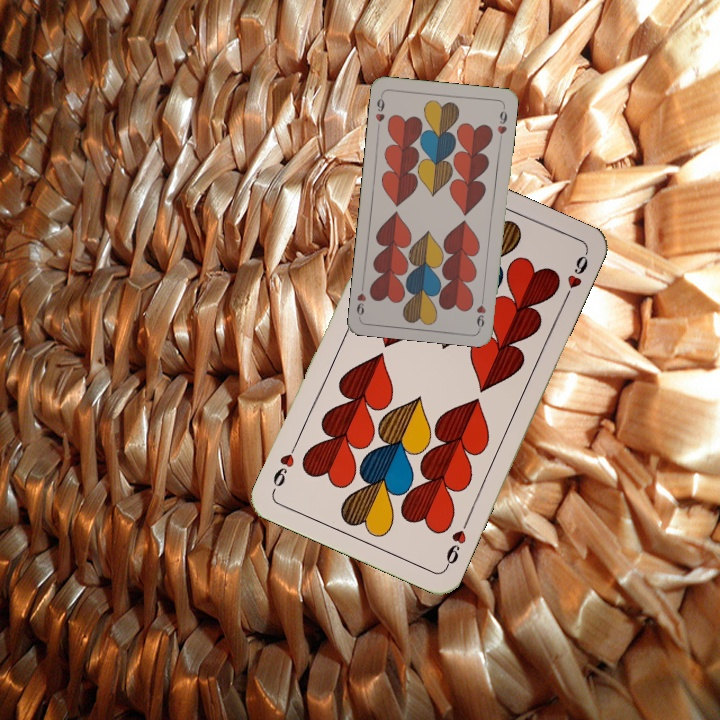H9: (441, 515, 472, 571), (472, 290, 488, 331), (371, 91, 387, 131)
